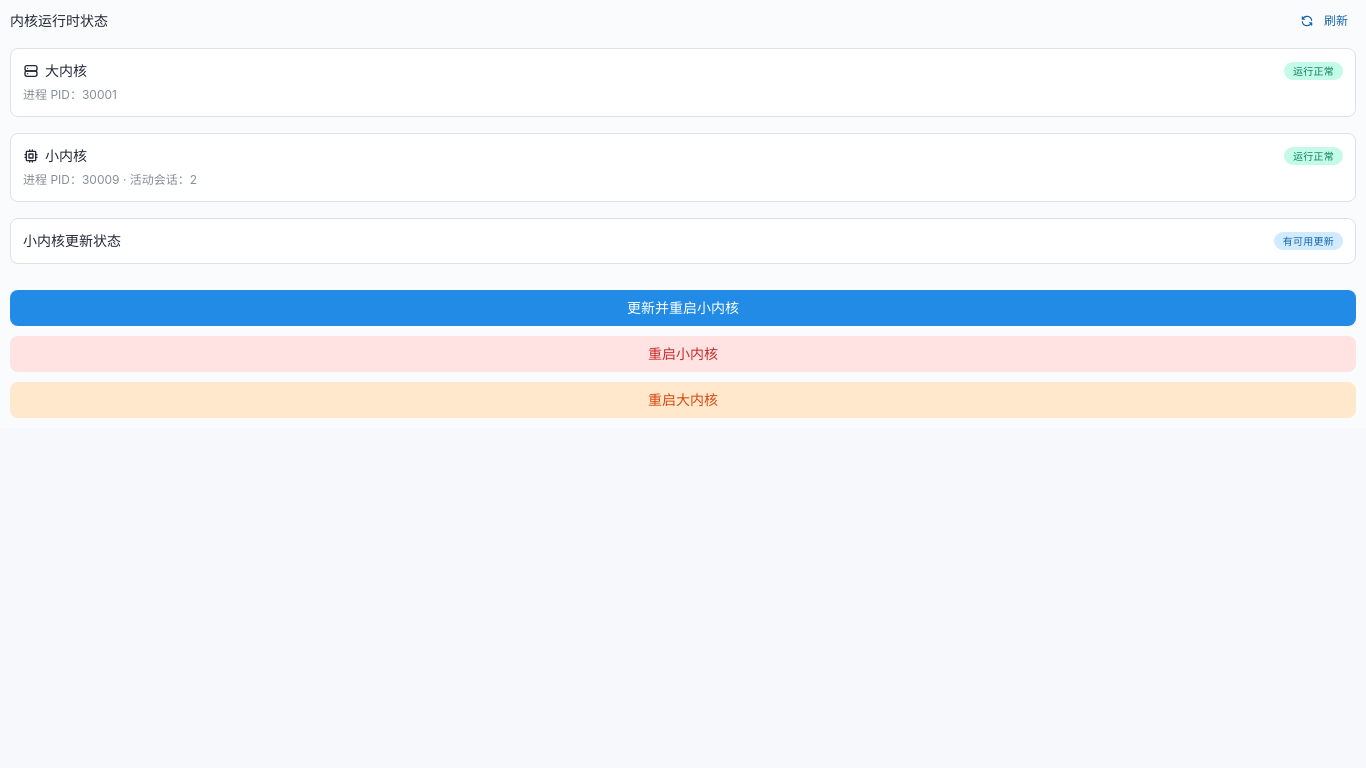
Test: KernelManagementPanel › disables operation buttons while an operation is in progress to prevent duplicate submission
The image size is (1366, 768).
Click the button "重启小内核" at point(683, 354), box [10,336,1356,372]
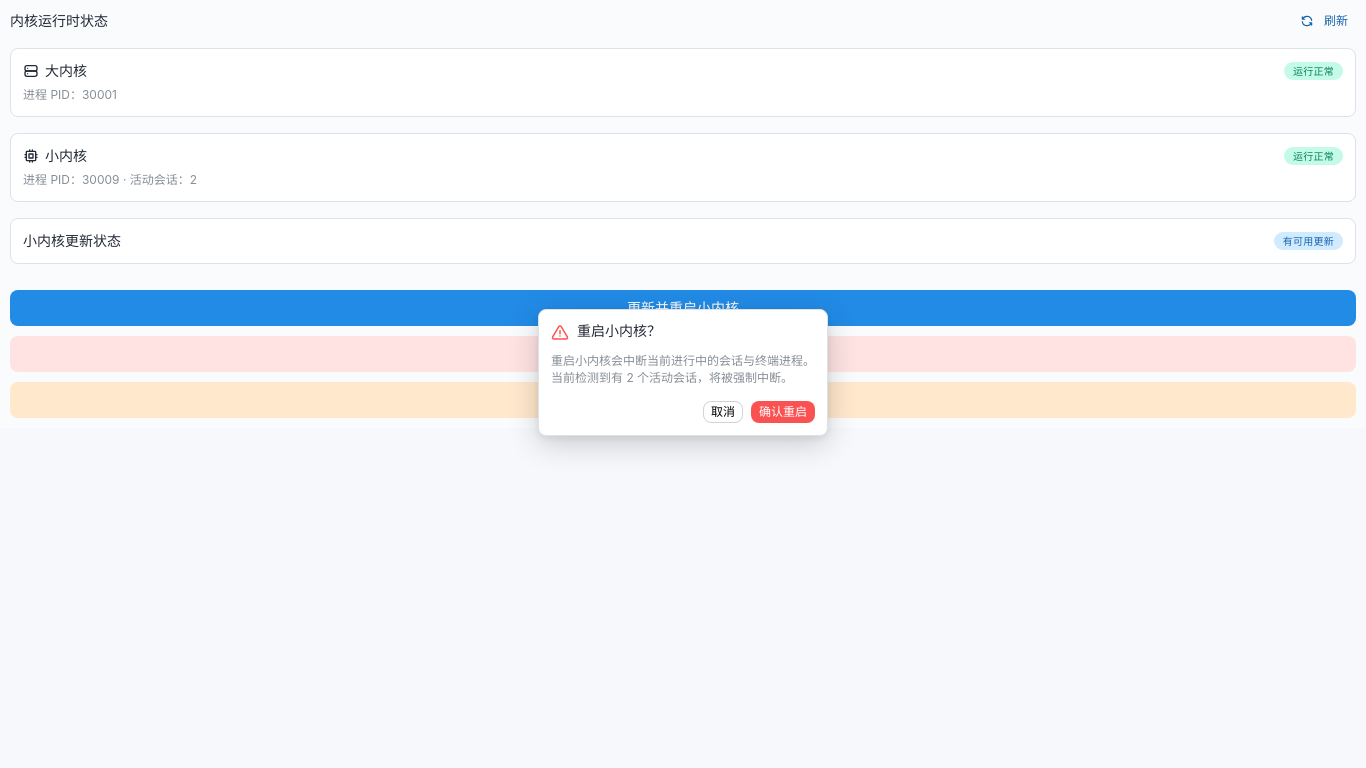
Click the button "确认重启" at point(783, 412), box [751,401,815,423]
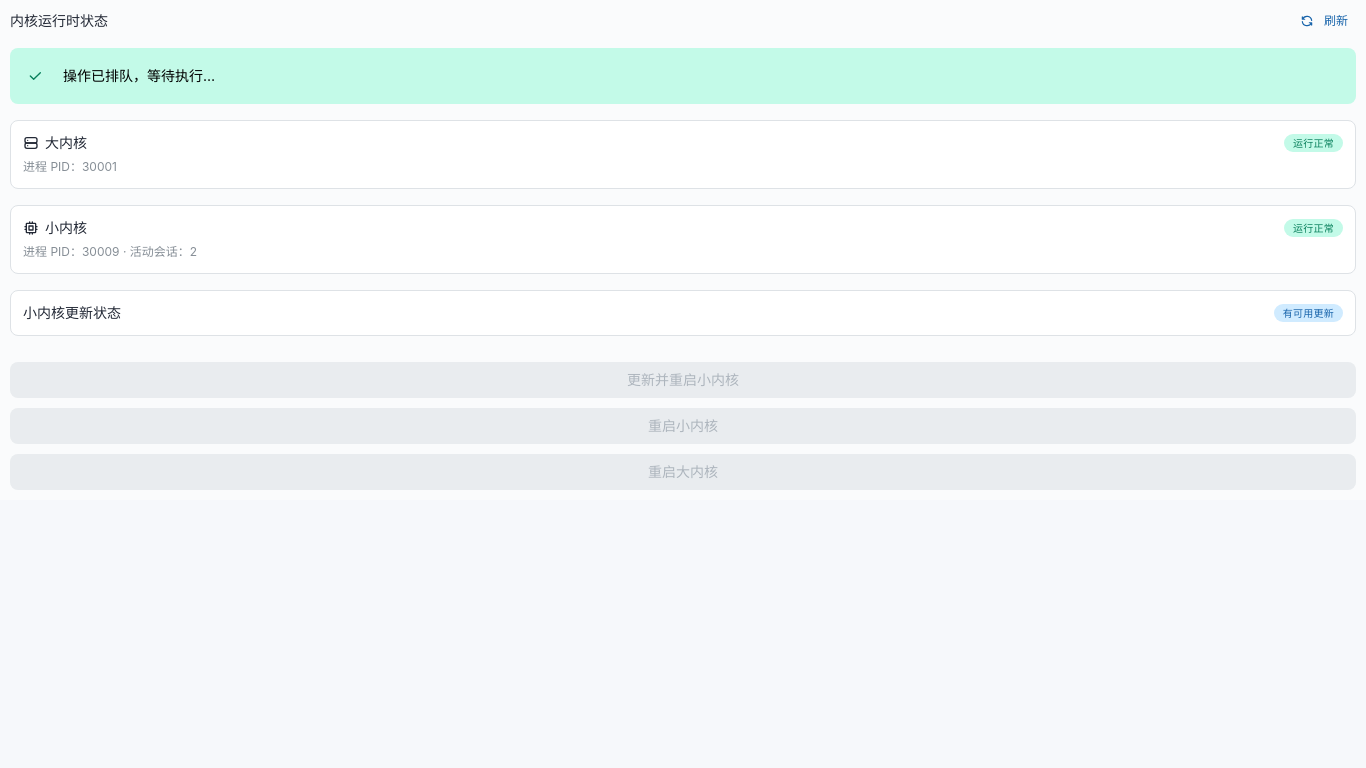
Now the button "重启小内核" is disabled, box [10,408,1356,444]
Now the button "更新并重启小内核" is disabled, box [10,362,1356,398]
Now the button "重启大内核" is disabled, box [10,454,1356,490]
